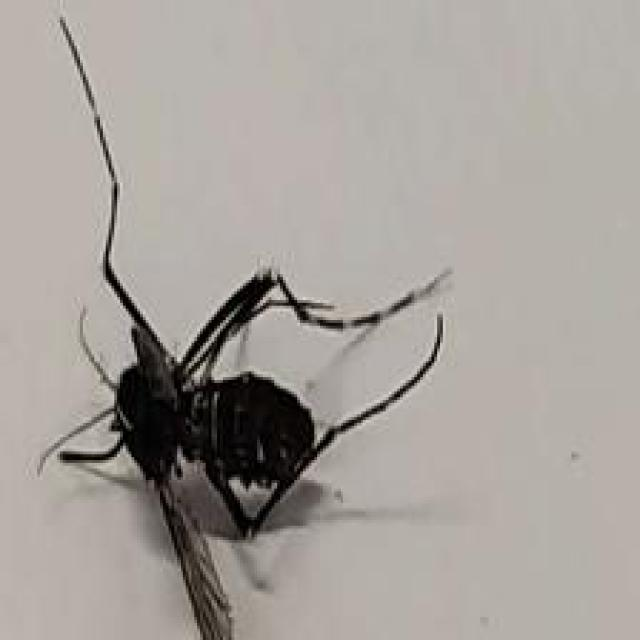Aedes albopictus: (34, 8, 454, 640)
